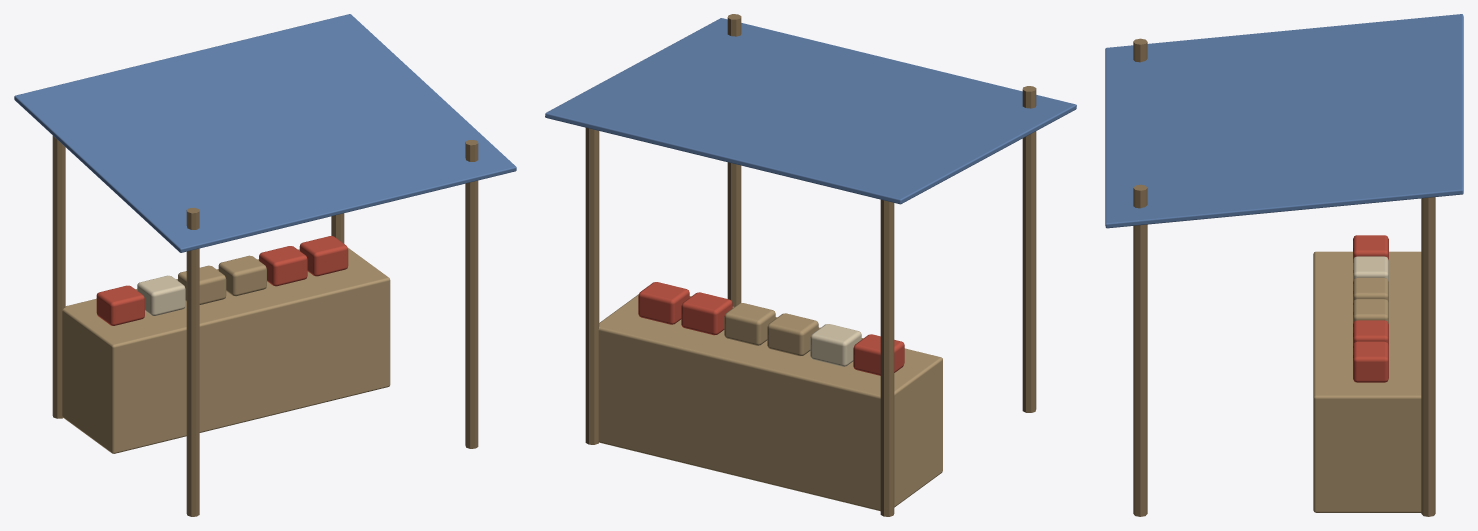
File: stall_1.glb
The picture shows the model from 3 angles, left to right: view 1: azimuth 30°, elevation 25°; view 2: azimuth 150°, elevation 25°; view 3: azimuth 270°, elevation 25°; orthographic projection. The views are drawn at different scales.
Parts seen in each view (by area): view 1: Awning, Counter, Post, Post.002, Post.001, Goods, Goods.005, Goods.003, Goods.004, Goods.001, Goods.002; view 2: Awning, Counter, Post.001, Post.003, Post, Post.002, Goods.002, Goods.004, Goods.001, Goods.003, Goods.005, Goods; view 3: Awning, Counter, Post.003, Post.002, Goods.005, Goods.002, Goods.004, Goods, Goods.001, Goods.003.
Part boxes in pixels (x1,y1,x2,y2): Awning: (14, 14, 516, 252); Counter: (62, 247, 390, 453); Post: (186, 207, 199, 516); Post.002: (465, 139, 478, 448); Post.001: (52, 135, 65, 418); Goods: (96, 285, 144, 325); Goods.005: (299, 236, 348, 276); Goods.003: (218, 255, 266, 296); Goods.004: (259, 246, 307, 286); Goods.001: (137, 275, 185, 315); Goods.002: (178, 265, 226, 304); Awning: (545, 18, 1076, 204); Counter: (598, 294, 942, 511); Post.001: (880, 199, 894, 516); Post.003: (585, 127, 599, 444); Post: (1022, 86, 1036, 412); Post.002: (727, 14, 741, 306); Goods.002: (767, 313, 818, 356); Goods.004: (681, 292, 732, 335); Goods.001: (810, 324, 861, 366); Goods.003: (724, 303, 775, 345); Goods.005: (638, 282, 689, 324); Goods: (853, 334, 904, 375); Awning: (1105, 14, 1463, 228); Counter: (1313, 251, 1421, 512); Post.003: (1421, 197, 1435, 516); Post.002: (1133, 184, 1147, 516); Goods.005: (1353, 341, 1388, 382); Goods.002: (1353, 277, 1388, 302); Goods.004: (1353, 320, 1388, 345); Goods: (1353, 235, 1388, 259); Goods.001: (1353, 256, 1388, 281); Goods.003: (1353, 299, 1388, 323).
Bounding box in the file's own units: 2.9 × 2.6 × 2.49.
